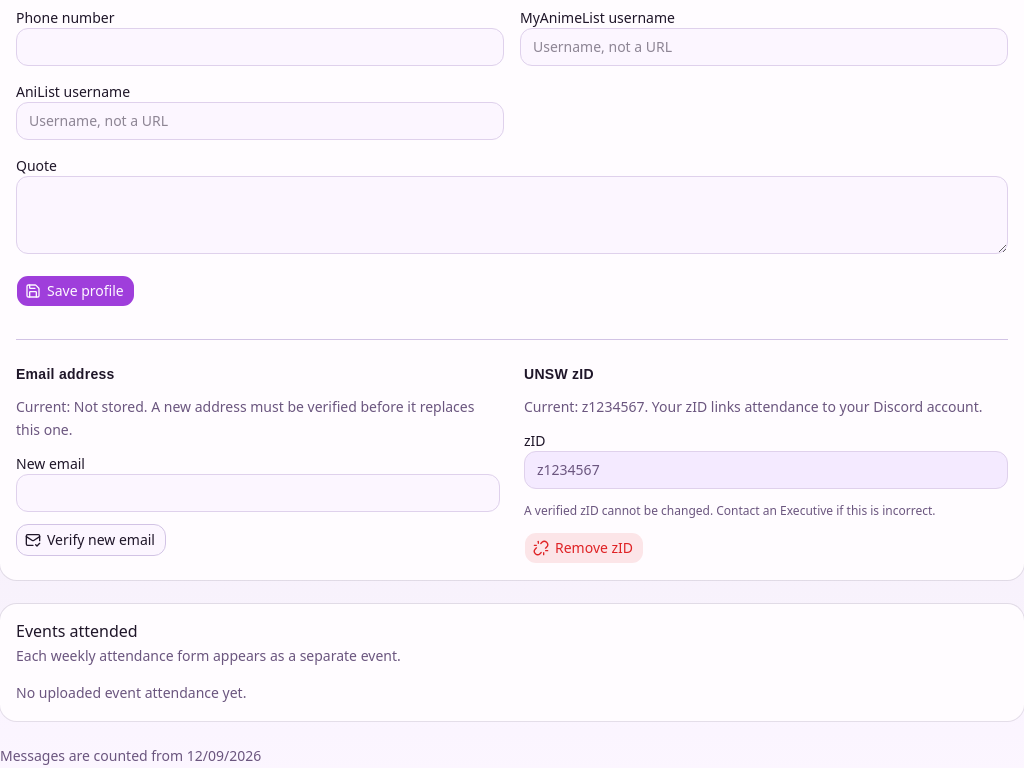
Test: AccountDashboard › confirms before removing a verified zID
The width and height of the screenshot is (1024, 768).
(page scrolled)
Step 1. Click the button "Remove zID" → x=584, y=548, box [524,532,644,564]
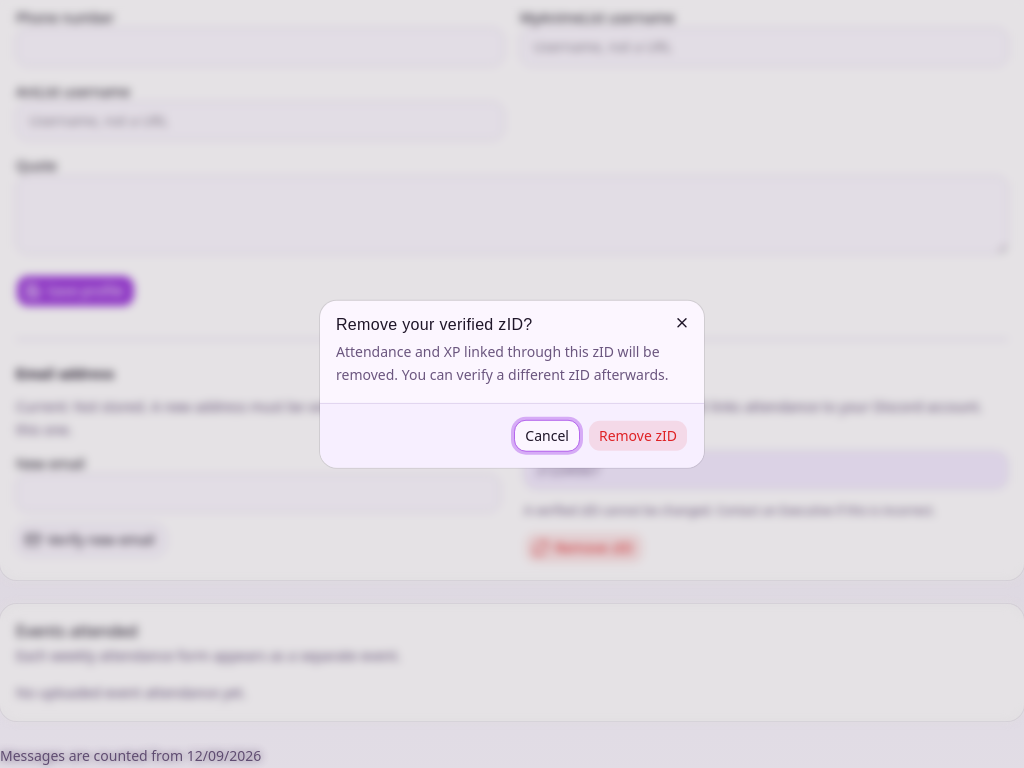
Result: the text "Attendance and XP linked through this zID" is shown at [336,342,668,384]
Step 2. Click the button "Remove zID" → x=638, y=435, box [588,419,688,451]
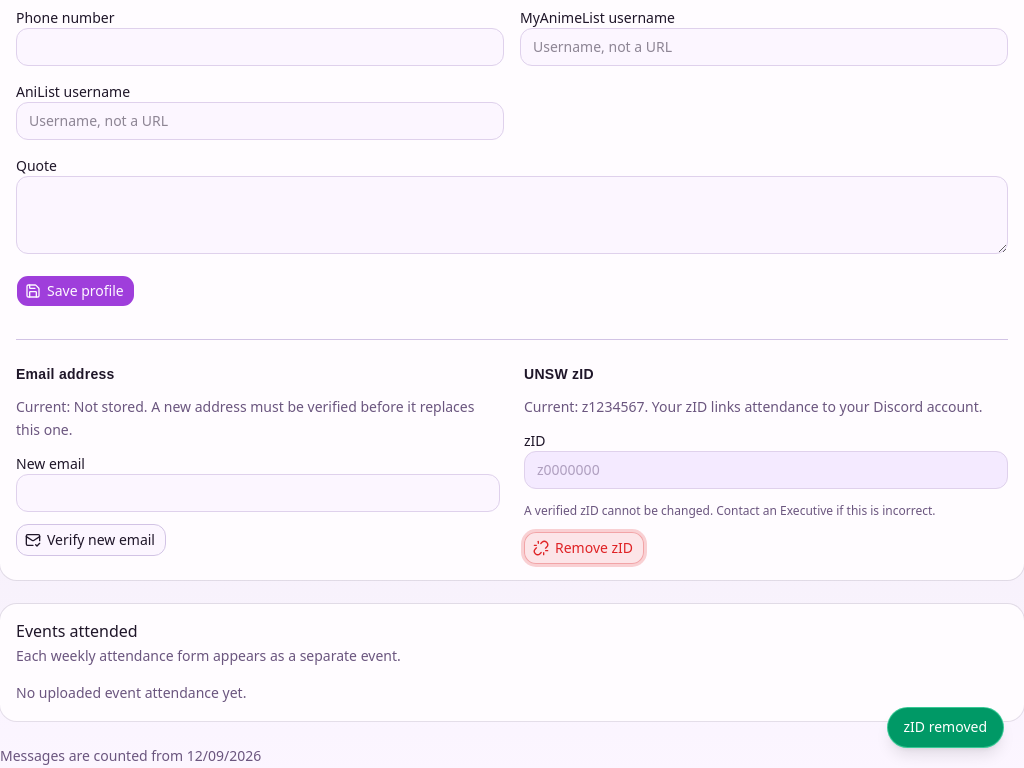
Result: the text "zID removed" is shown at [886,707,1004,748]
